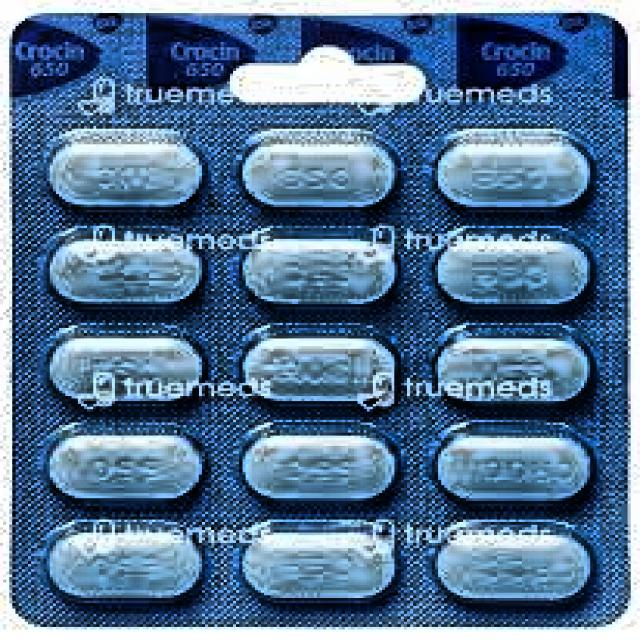Crocin: (19, 29, 626, 614)
